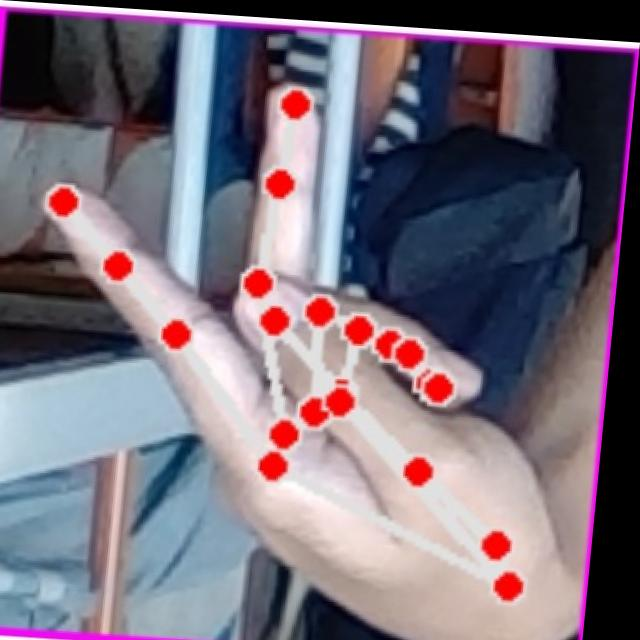P: (0, 58, 597, 640)
